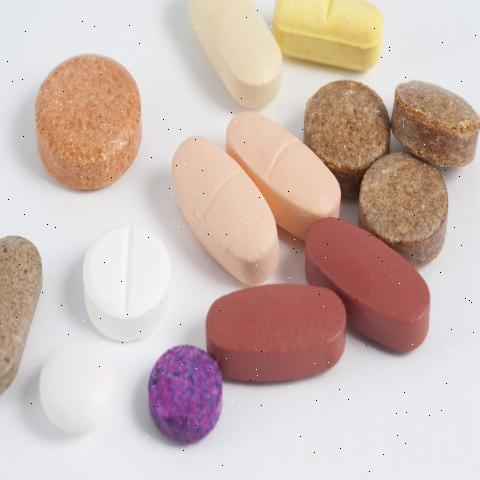Pill: (76, 202, 177, 349), (34, 324, 113, 444)
